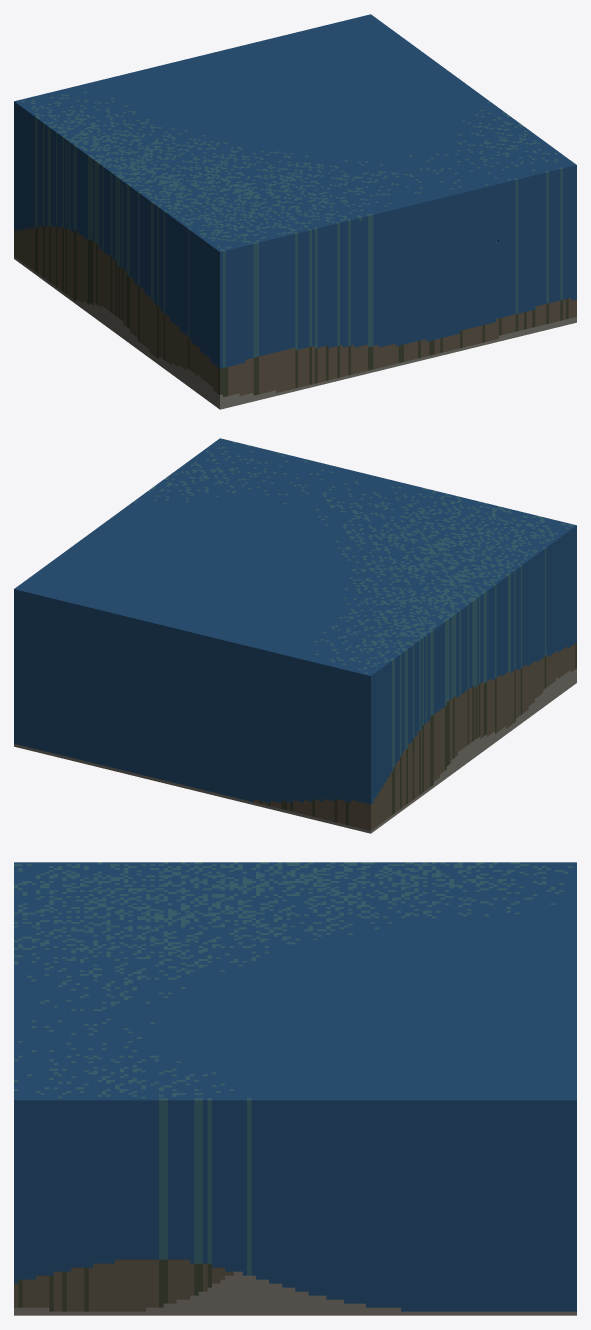
File: Combined Desert(2)-10-water 1.obj
The picture shows the model from 3 angles, top to bottom: view 1: azimuth 30°, elevation 25°; view 2: azimuth 150°, elevation 25°; view 3: azimuth 270°, elevation 25°; orthographic projection. The views are drawn at different scales.
Parts seen in each view (by area): view 1: water 1; view 2: water 1; view 3: water 1.
Part boxes in pixels (box(x1,y1,x2,y2)): water 1: box(14, 14, 576, 409); water 1: box(14, 438, 576, 833); water 1: box(14, 862, 576, 1315).
Size of the model in its own units: 12.8 by 5.4 by 12.8.
1 material, 1 textured.
